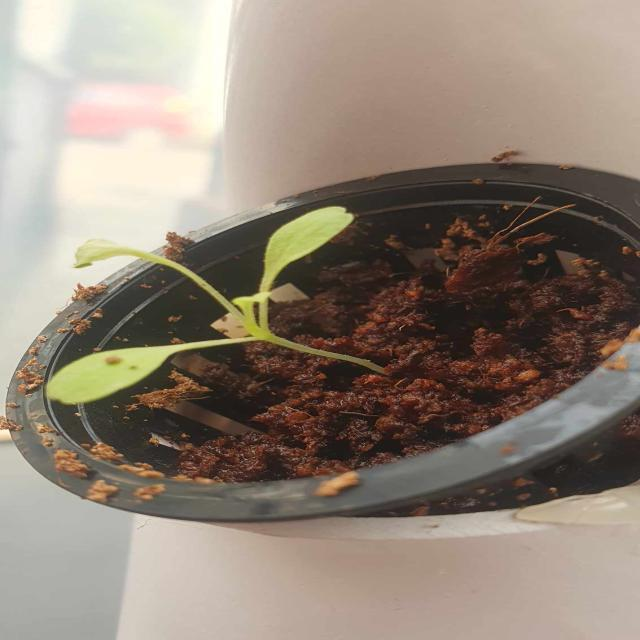Lettuce-Not-Ready-to-Harvest: (44, 197, 389, 413)
